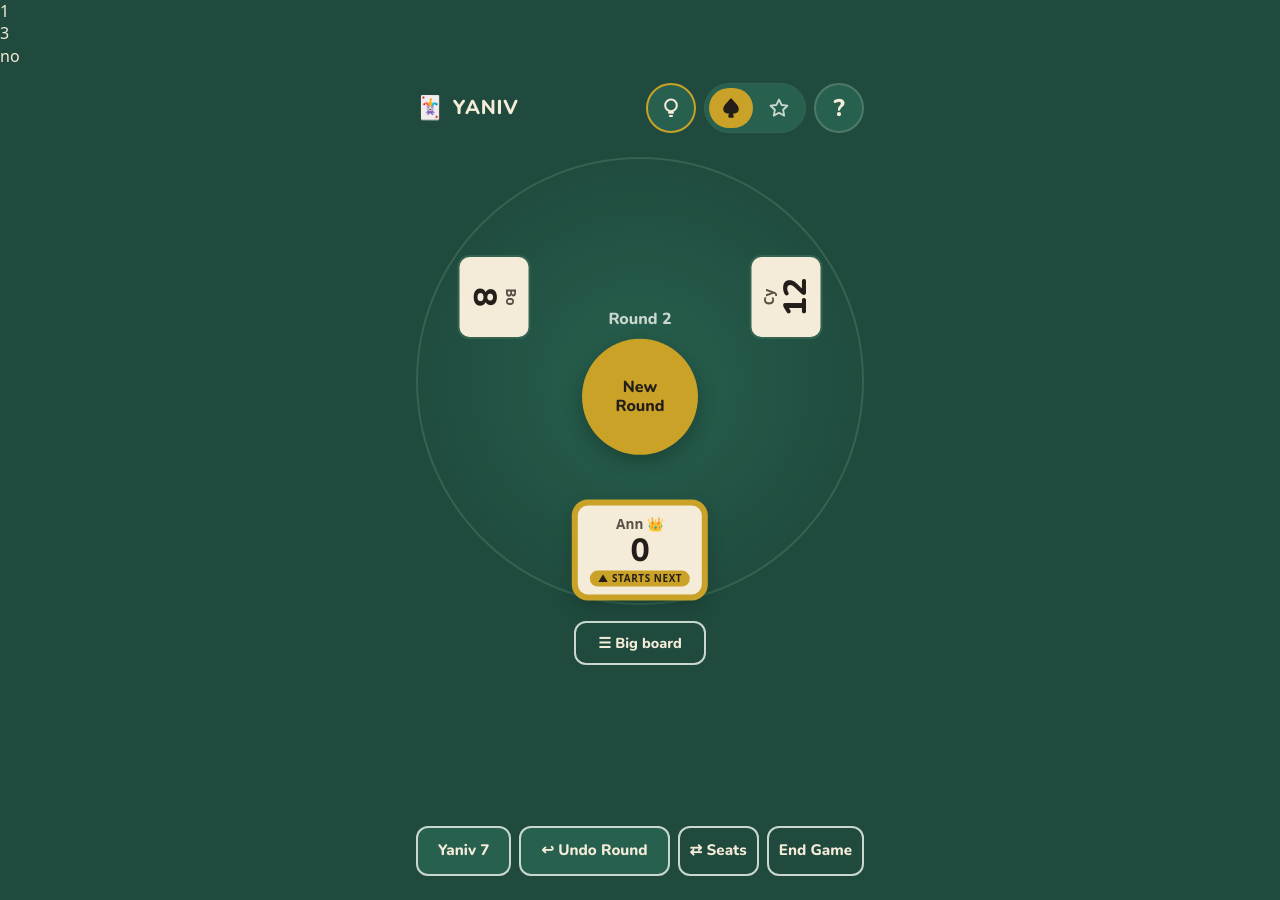
PlayScreen — undo and standings › undo reverts the most recent round
This screenshot has width=1280, height=900.
Expected: the text with test id "history-len" reads "1", [0,0,9,22]
Click the button "↩ Undo Round".
click(594, 851)  # box [519,826,670,876]
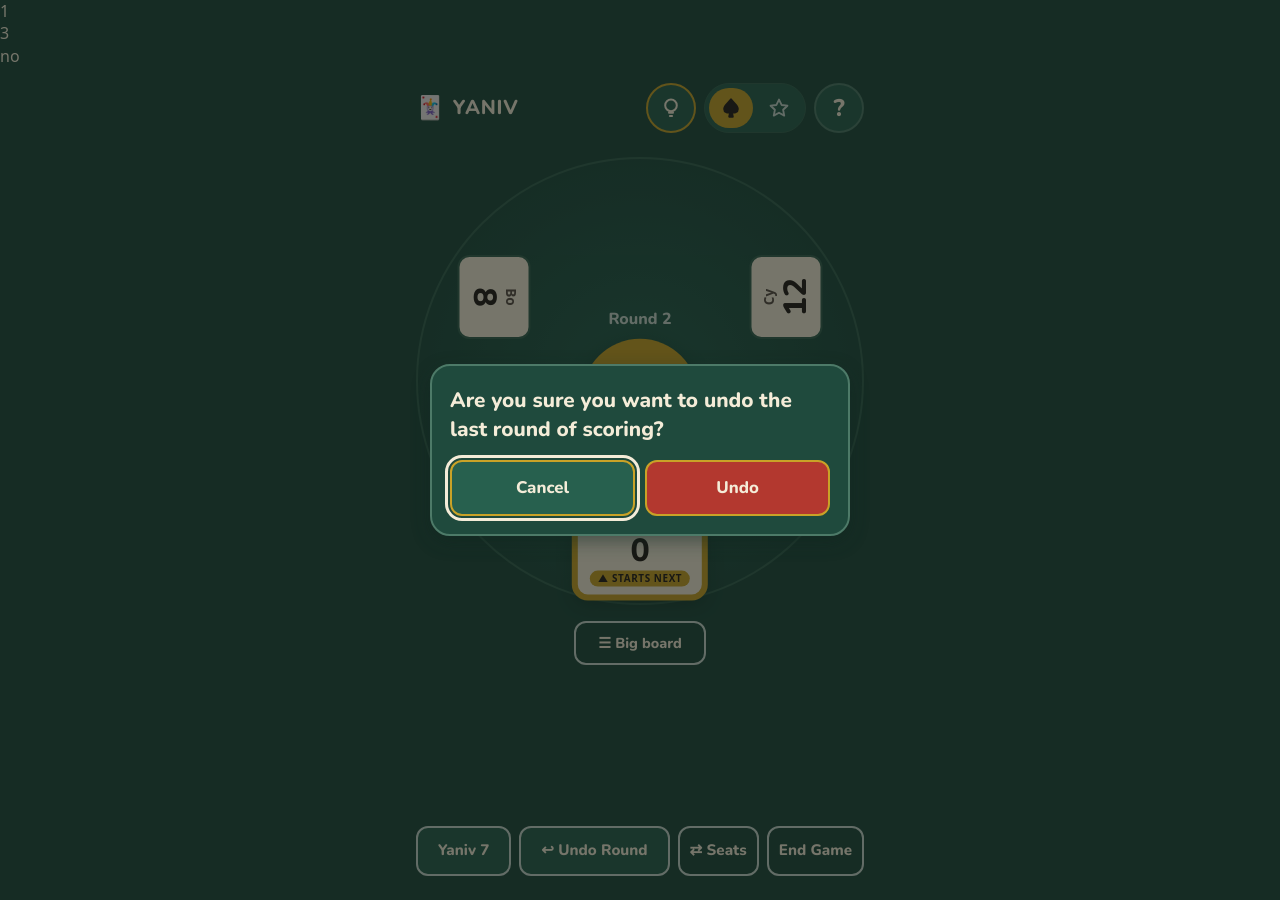
Click the button with test id "confirm-undo-round-confirm".
click(738, 488)  # box [645,460,830,516]
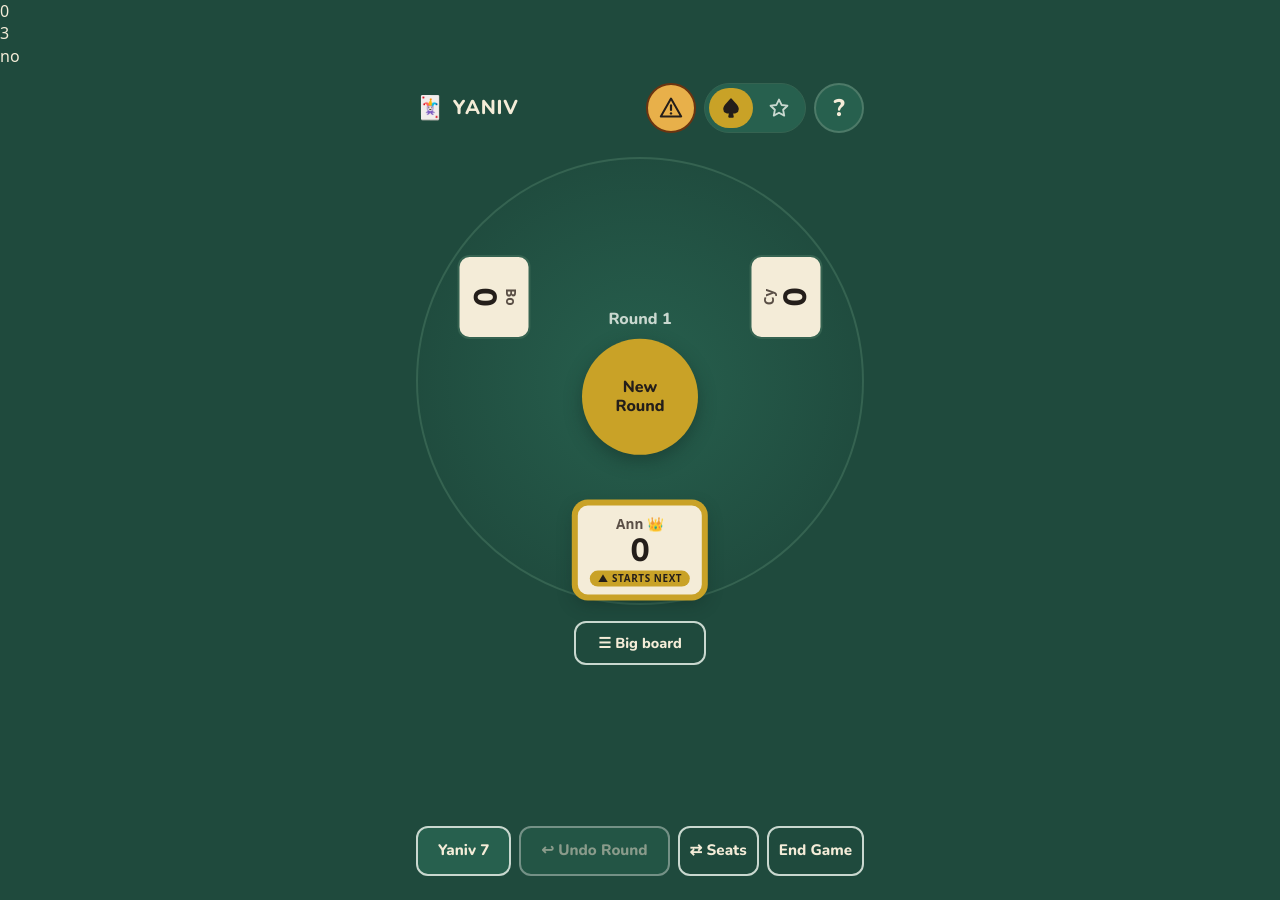
Expected: the text with test id "history-len" reads "0", [0,0,9,22]
